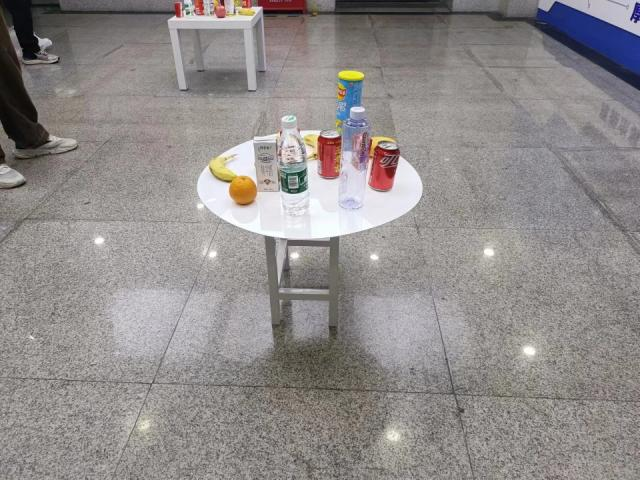Canned_drinks: (370, 140, 400, 192), (316, 128, 342, 180)
bottle: (337, 105, 371, 211), (278, 114, 311, 216)
cylinder: (336, 68, 364, 152)
drink_box: (252, 135, 281, 194)
